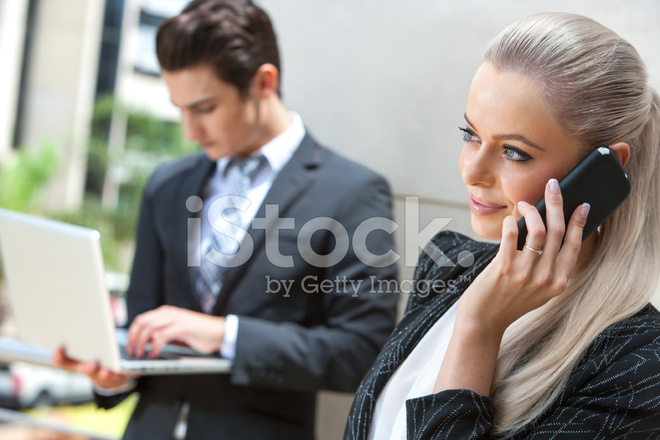phone: (526, 144, 618, 278)
talk: (454, 108, 630, 337)
